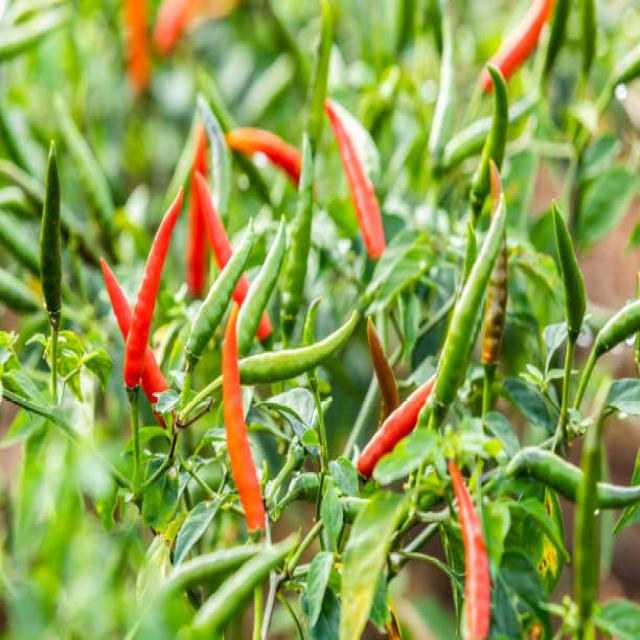Half-Ripe: (481, 232, 508, 365), (368, 317, 399, 425)
Ripe: (124, 188, 182, 387), (222, 302, 265, 532), (325, 99, 386, 258), (358, 375, 436, 477), (449, 461, 490, 638), (101, 259, 132, 342), (141, 345, 169, 403)
Unripe: (425, 193, 506, 427), (185, 219, 254, 366), (239, 312, 358, 384), (505, 448, 640, 511), (574, 298, 640, 408), (281, 133, 314, 344), (238, 216, 286, 355), (470, 64, 508, 224), (40, 141, 61, 403), (553, 201, 586, 338)
